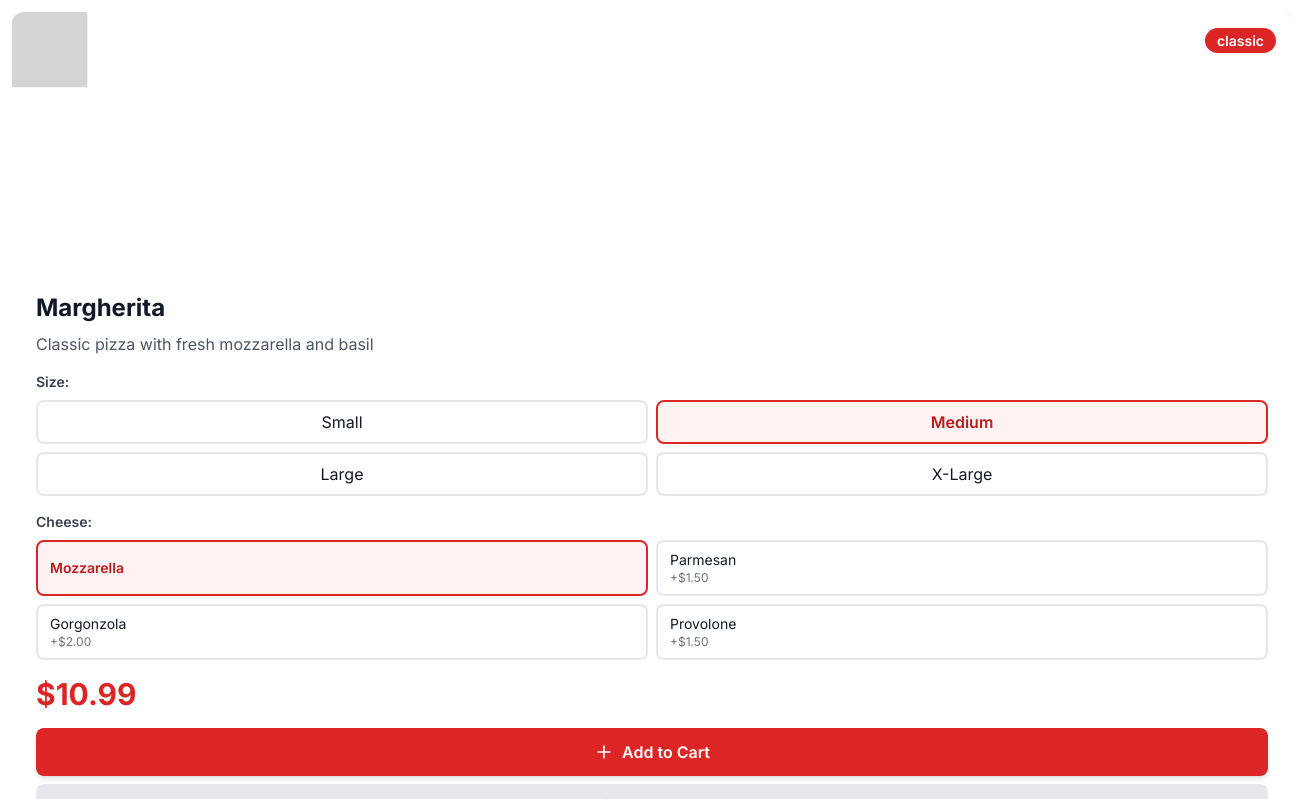
Test case: PizzaCard › should show "Added!" message after adding to cart
Click the button "Add to Cart" at [652, 752], box [36, 728, 1268, 776]
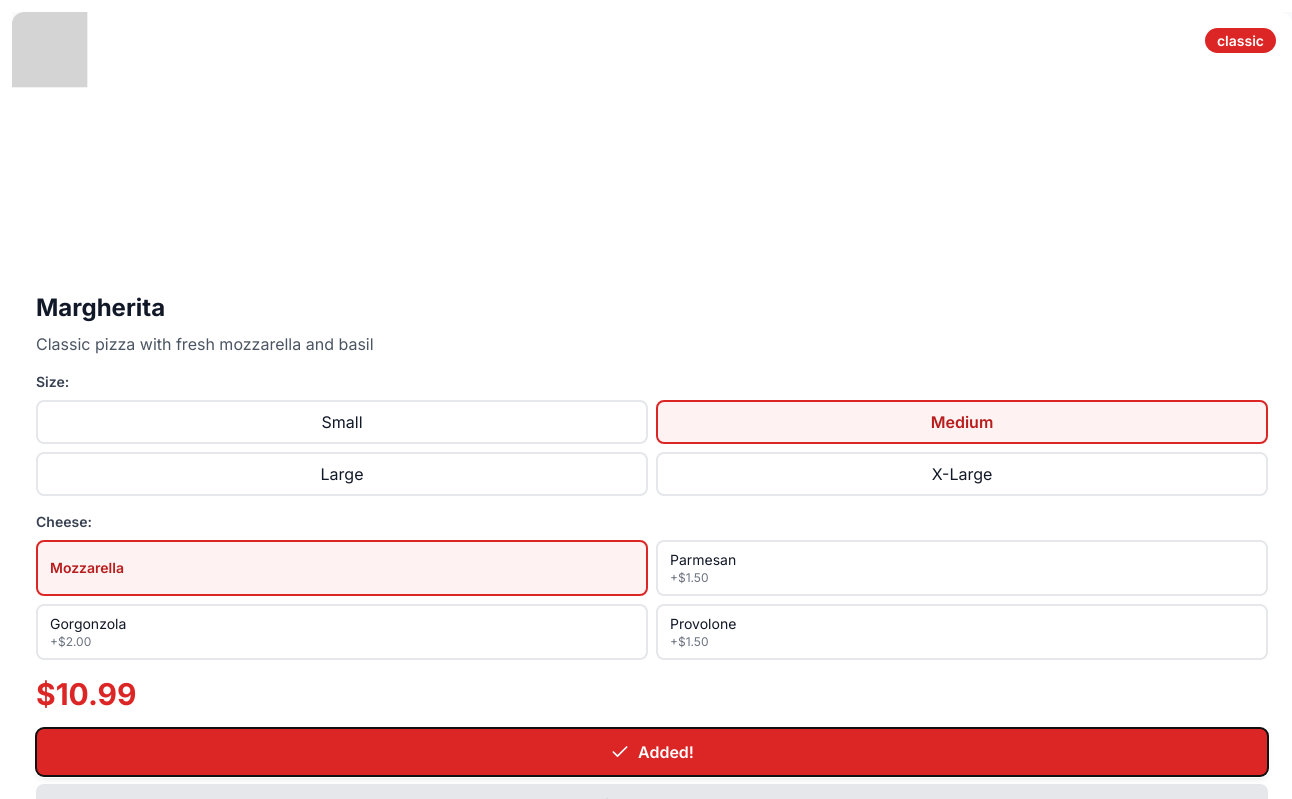
Expected: the button "Added!" is shown, [36, 728, 1268, 776]
